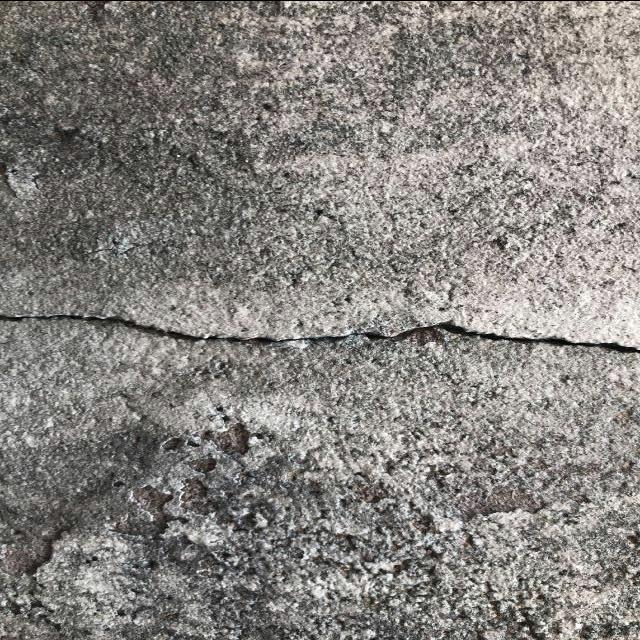SurfaceCrack: (2, 254, 640, 406)
